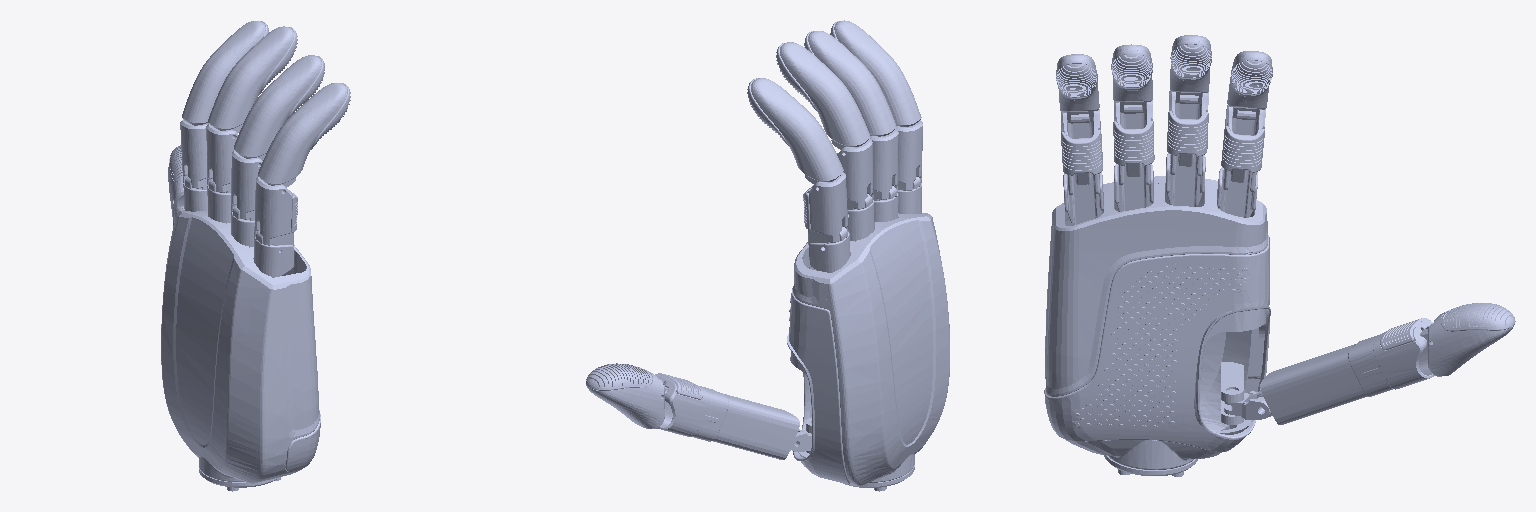
The robot description file, URDF, robot "hand":
<?xml version='1.0' encoding='UTF-8'?>
<robot name="hand">
  <material name="black">
    <color rgba="0.0 0.0 0.0 1.0" />
  </material>
  <material name="blue">
    <color rgba="0.0 0.0 0.8 1.0" />
  </material>
  <material name="green">
    <color rgba="0.0 0.8 0.0 1.0" />
  </material>
  <material name="grey">
    <color rgba="0.2 0.2 0.2 1.0" />
  </material>
  <material name="orange">
    <color rgba="1.0 0.423529411765 0.0392156862745 1.0" />
  </material>
  <material name="brown">
    <color rgba="0.870588235294 0.811764705882 0.764705882353 1.0" />
  </material>
  <material name="red">
    <color rgba="0.8 0.0 0.0 1.0" />
  </material>
  <material name="white">
    <color rgba="1.0 1.0 1.0 1.0" />
  </material>
  <material name="Beige">
    <color rgba="1.0 0.784 0.5765 1.0" />
  </material>
  <link name="rh_hand_base_link">
    <inertial>
      <origin xyz="0.0019900000 0.0009100000 0.0583810000" rpy="0 0 0" />
      <mass value="0.4185" />
      <inertia ixx="0.0004998" ixy="-1.2853e-05" ixz="-8.317e-06" iyy="0.0003567" iyz="-1.0354e-05" izz="0.0002301" />
    </inertial>
    <visual>
      <origin xyz="0 0 0" rpy="0 0 0" />
      <geometry>
        <mesh filename="meshes/visual/rh_hand_base_link_vis.obj" />
      </geometry>
      <material name="">
        <color rgba="0.796078431372549 0.823529411764706 0.937254901960784 1" />
      </material>
    </visual>
    <collision>
      <origin xyz="0 0 0" rpy="0 0 0" />
      <geometry>
        <mesh filename="meshes/visual/rh_hand_base_link_vis.obj" />
      </geometry>
    </collision>
  </link>
  <link name="rh_thumb_metacarpals_base1">
    <inertial>
      <origin xyz="0.0018663000 0.0066406000 0.0015330000" rpy="0 0 0" />
      <mass value="0.01" />
      <inertia ixx="3.3724e-07" ixy="-1.11e-07" ixz="-3.6039e-08" iyy="2.9457e-07" iyz="-5.7181e-08" izz="4.903e-07" />
    </inertial>
    <visual>
      <origin xyz="0 0 0" rpy="0 0 0" />
      <geometry>
        <mesh filename="meshes/visual/rh_thumb_metacarpals_base1_vis.obj" />
      </geometry>
      <material name="">
        <color rgba="0.796078431372549 0.823529411764706 0.937254901960784 1" />
      </material>
    </visual>
    <collision>
      <origin xyz="0 0 0" rpy="0 0 0" />
      <geometry>
        <mesh filename="meshes/visual/rh_thumb_metacarpals_base1_vis.obj" />
      </geometry>
    </collision>
  </link>
  <joint name="rh_thumb_cmc_roll" type="revolute">
    <origin xyz="0.0078133 0.030812 0.025678" rpy="-0.034907 0 0" />
    <parent link="rh_hand_base_link" />
    <child link="rh_thumb_metacarpals_base1" />
    <axis xyz="0 0.034899 -0.99939" />
    <limit lower="-0.087266" upper="1.256637" effort="0.588" velocity="5.95" />
    <dynamics damping="0.02" friction="0.05416667" />
  </joint>
  <link name="rh_thumb_metacarpals">
    <inertial>
      <origin xyz="0.0076927091 -0.0859662185 0.0235283087" rpy="0 0 0" />
      <mass value="0.065" />
      <inertia ixx="8.407e-06" ixy="1.1338e-09" ixz="1.1136e-08" iyy="8.3899e-06" iyz="-3.1171e-07" izz="2.0091e-06" />
    </inertial>
    <visual>
      <origin xyz="0 0 0" rpy="0 0 0" />
      <geometry>
        <mesh filename="meshes/visual/rh_thumb_metacarpals_vis.obj" />
      </geometry>
      <material name="">
        <color rgba="0.796078431372549 0.823529411764706 0.937254901960784 1" />
      </material>
    </visual>
    <collision>
      <origin xyz="0 0 0" rpy="0 0 0" />
      <geometry>
        <mesh filename="meshes/visual/rh_thumb_metacarpals_vis.obj" />
      </geometry>
    </collision>
  </link>
  <joint name="rh_thumb_cmc_pitch" type="revolute">
    <origin xyz="0.0054997 0.013314 0.0032166" rpy="-1.0762 0.013637 -0.40121" />
    <parent link="rh_thumb_metacarpals_base1" />
    <child link="rh_thumb_metacarpals" />
    <axis xyz="1 0 0" />
    <limit lower="0" upper="0.837758" effort="1.008" velocity="3.47" />
    <dynamics damping="0.02" friction="0.0375" />
  </joint>
  <link name="rh_thumb_distal">
    <inertial>
      <origin xyz="0.0076927091 -0.0798662185 -0.0591716913" rpy="0 0 0" />
      <mass value="0.018" />
      <inertia ixx="1.5546e-06" ixy="-2.4423e-09" ixz="2.8147e-09" iyy="1.7108e-06" iyz="7.2756e-08" izz="9.1709e-07" />
    </inertial>
    <visual>
      <origin xyz="0 0 0" rpy="0 0 0" />
      <geometry>
        <mesh filename="meshes/visual/rh_thumb_distal_vis.obj" />
      </geometry>
      <material name="">
        <color rgba="0.796078431372549 0.823529411764706 0.937254901960784 1" />
      </material>
    </visual>
    <collision>
      <origin xyz="0 0 0" rpy="0 0 0" />
      <geometry>
        <mesh filename="meshes/visual/rh_thumb_distal_vis.obj" />
      </geometry>
    </collision>
  </link>
  <link name="rh_thumb_tip">
    <visual>
      <origin xyz="0 0 0" rpy="0 0 0" />
      <geometry>
        <box size="0.0001 0.0001 0.0001" />
      </geometry>
      <material name="white" />
    </visual>
    <collision>
      <origin xyz="0 0 0" rpy="0 0 0" />
      <geometry>
        <box size="0.0001 0.0001 0.0001" />
      </geometry>
    </collision>
    <inertial>
      <origin xyz="0 0 0" rpy="0 0 0" />
      <mass value="1e-06" />
      <inertia ixx="1e-09" ixy="0" ixz="0" iyy="1e-09" iyz="0" izz="1e-09" />
    </inertial>
  </link>
  <joint name="rh_thumb_tip_fixed" type="fixed">
    <origin xyz="0 -0.0035 0.026" rpy="0 0 -1.5708" />
    <parent link="rh_thumb_distal" />
    <child link="rh_thumb_tip" />
  </joint>
  <joint name="rh_thumb_dip" type="revolute">
    <origin xyz="0 -0.0061 0.0827" rpy="0 0 0" />
    <parent link="rh_thumb_metacarpals" />
    <child link="rh_thumb_distal" />
    <axis xyz="1 0 0" />
    <limit lower="0" upper="0.963287" effort="0" velocity="1.7" />
    <mimic joint="rh_thumb_cmc_pitch" multiplier="1.226495" offset="0" />
  </joint>
  <link name="rh_index_proximal">
    <inertial>
      <origin xyz="0.0017760000 0.0001100000 0.0125560000" rpy="0 0 0" />
      <mass value="0.008553" />
      <inertia ixx="7.97543e-07" ixy="1.275e-09" ixz="1.38601e-07" iyy="8.00499e-07" iyz="-9.39e-10" izz="3.57001e-07" />
    </inertial>
    <visual>
      <origin xyz="0 0 0" rpy="0 0 0" />
      <geometry>
        <mesh filename="meshes/visual/rh_index_proximal_vis.obj" />
      </geometry>
      <material name="">
        <color rgba="0.796078431372549 0.823529411764706 0.937254901960784 1" />
      </material>
    </visual>
    <collision>
      <origin xyz="0 0 0" rpy="0 0 0" />
      <geometry>
        <mesh filename="meshes/visual/rh_index_proximal_vis.obj" />
      </geometry>
    </collision>
  </link>
  <joint name="rh_index_mcp_pitch" type="revolute">
    <origin xyz="-0.00066821 0.033467 0.11622" rpy="-0.087266 0 0" />
    <parent link="rh_hand_base_link" />
    <child link="rh_index_proximal" />
    <axis xyz="0 1 0" />
    <limit lower="0" upper="1.134464" effort="0.574" velocity="6.10" />
    <dynamics damping="0.01" friction="0.04" />
  </joint>
  <link name="rh_index_distal">
    <inertial>
      <origin xyz="0.0134000000 -0.0022620000 0.0169920000" rpy="0 0 0" />
      <mass value="0.018408" />
      <inertia ixx="2.488712e-06" ixy="-8.249e-09" ixz="-1.523059e-06" iyy="3.723754e-06" iyz="-1.4019e-08" izz="1.813582e-06" />
    </inertial>
    <visual>
      <origin xyz="0 0 0" rpy="0 0 0" />
      <geometry>
        <mesh filename="meshes/visual/rh_index_distal_vis.obj" />
      </geometry>
      <material name="">
        <color rgba="0.796078431372549 0.823529411764706 0.937254901960784 1" />
      </material>
    </visual>
    <collision>
      <origin xyz="0 0 0" rpy="0 0 0" />
      <geometry>
        <mesh filename="meshes/visual/rh_index_distal_vis.obj" />
      </geometry>
    </collision>
  </link>
  <link name="rh_index_tip">
    <visual>
      <origin xyz="0 0 0" rpy="0 0 0" />
      <geometry>
        <box size="0.0001 0.0001 0.0001" />
      </geometry>
      <material name="white" />
    </visual>
    <collision>
      <origin xyz="0 0 0" rpy="0 0 0" />
      <geometry>
        <box size="0.0001 0.0001 0.0001" />
      </geometry>
    </collision>
    <inertial>
      <origin xyz="0 0 0" rpy="0 0 0" />
      <mass value="1e-06" />
      <inertia ixx="1e-09" ixy="0" ixz="0" iyy="1e-09" iyz="0" izz="1e-09" />
    </inertial>
  </link>
  <joint name="rh_index_tip_fixed" type="fixed">
    <origin xyz="0.0341 0 0.034" rpy="0 0 0" />
    <parent link="rh_index_distal" />
    <child link="rh_index_tip" />
  </joint>
  <joint name="rh_index_dip" type="revolute">
    <origin xyz="0.0009359 0 0.028002" rpy="0 0 0" />
    <parent link="rh_index_proximal" />
    <child link="rh_index_distal" />
    <axis xyz="0 1 0" />
    <limit lower="0" upper="1.277039" effort="0" velocity="3.1" />
    <mimic joint="rh_index_mcp_pitch" multiplier="1.125676" offset="0" />
  </joint>
  <link name="rh_middle_proximal">
    <inertial>
      <origin xyz="0.0017760000 0.0001100000 0.0125560000" rpy="0 0 0" />
      <mass value="0.008553" />
      <inertia ixx="7.97543e-07" ixy="1.275e-09" ixz="1.38601e-07" iyy="8.00499e-07" iyz="-9.39e-10" izz="3.57001e-07" />
    </inertial>
    <visual>
      <origin xyz="0 0 0" rpy="0 0 0" />
      <geometry>
        <mesh filename="meshes/visual/rh_middle_proximal_vis.obj" />
      </geometry>
      <material name="">
        <color rgba="0.796078431372549 0.823529411764706 0.937254901960784 1" />
      </material>
    </visual>
    <collision>
      <origin xyz="0 0 0" rpy="0 0 0" />
      <geometry>
        <mesh filename="meshes/visual/rh_middle_proximal_vis.obj" />
      </geometry>
    </collision>
  </link>
  <joint name="rh_middle_mcp_pitch" type="revolute">
    <origin xyz="-0.00066821 0.0134013 0.12272" rpy="-0.034907 0 0" />
    <parent link="rh_hand_base_link" />
    <child link="rh_middle_proximal" />
    <axis xyz="0 1 0" />
    <limit lower="0" upper="1.134464" effort="0.574" velocity="6.10" />
    <dynamics damping="0.01" friction="0.02708333" />
  </joint>
  <link name="rh_middle_distal">
    <inertial>
      <origin xyz="0.0134000000 -0.0022620000 0.0169920000" rpy="0 0 0" />
      <mass value="0.018408" />
      <inertia ixx="2.488712e-06" ixy="-8.249e-09" ixz="-1.523059e-06" iyy="3.723754e-06" iyz="-1.4019e-08" izz="1.813582e-06" />
    </inertial>
    <visual>
      <origin xyz="0 0 0" rpy="0 0 0" />
      <geometry>
        <mesh filename="meshes/visual/rh_middle_distal_vis.obj" />
      </geometry>
      <material name="">
        <color rgba="0.796078431372549 0.823529411764706 0.937254901960784 1" />
      </material>
    </visual>
    <collision>
      <origin xyz="0 0 0" rpy="0 0 0" />
      <geometry>
        <mesh filename="meshes/visual/rh_middle_distal_vis.obj" />
      </geometry>
    </collision>
  </link>
  <link name="rh_middle_tip">
    <visual>
      <origin xyz="0 0 0" rpy="0 0 0" />
      <geometry>
        <box size="0.0001 0.0001 0.0001" />
      </geometry>
      <material name="white" />
    </visual>
    <collision>
      <origin xyz="0 0 0" rpy="0 0 0" />
      <geometry>
        <box size="0.0001 0.0001 0.0001" />
      </geometry>
    </collision>
    <inertial>
      <origin xyz="0 0 0" rpy="0 0 0" />
      <mass value="1e-06" />
      <inertia ixx="1e-09" ixy="0" ixz="0" iyy="1e-09" iyz="0" izz="1e-09" />
    </inertial>
  </link>
  <joint name="rh_middle_tip_fixed" type="fixed">
    <origin xyz="0.0341 0 0.034" rpy="0 0 0" />
    <parent link="rh_middle_distal" />
    <child link="rh_middle_tip" />
  </joint>
  <joint name="rh_middle_dip" type="revolute">
    <origin xyz="0.0009359 0 0.028002" rpy="0 0 0" />
    <parent link="rh_middle_proximal" />
    <child link="rh_middle_distal" />
    <axis xyz="0 1 0" />
    <limit lower="0" upper="1.277039" effort="0" velocity="3.1" />
    <mimic joint="rh_middle_mcp_pitch" multiplier="1.125676" offset="0" />
  </joint>
  <link name="rh_ring_proximal">
    <inertial>
      <origin xyz="0.0017760000 0.0001100000 0.0125560000" rpy="0 0 0" />
      <mass value="0.008553" />
      <inertia ixx="7.97543e-07" ixy="1.275e-09" ixz="1.38601e-07" iyy="8.00499e-07" iyz="-9.39e-10" izz="3.57001e-07" />
    </inertial>
    <visual>
      <origin xyz="0 0 0" rpy="0 0 0" />
      <geometry>
        <mesh filename="meshes/visual/rh_ring_proximal_vis.obj" />
      </geometry>
      <material name="">
        <color rgba="0.796078431372549 0.823529411764706 0.937254901960784 1" />
      </material>
    </visual>
    <collision>
      <origin xyz="0 0 0" rpy="0 0 0" />
      <geometry>
        <mesh filename="meshes/visual/rh_ring_proximal_vis.obj" />
      </geometry>
    </collision>
  </link>
  <joint name="rh_ring_mcp_pitch" type="revolute">
    <origin xyz="-0.00067368 -0.006217 0.11872" rpy="0.017453 0 0" />
    <parent link="rh_hand_base_link" />
    <child link="rh_ring_proximal" />
    <axis xyz="0 1 0" />
    <limit lower="0" upper="1.134464" effort="0.574" velocity="6.10" />
    <dynamics damping="0.01" friction="0.02291667" />
  </joint>
  <link name="rh_ring_distal">
    <inertial>
      <origin xyz="0.0134000000 -0.0022620000 0.0169920000" rpy="0 0 0" />
      <mass value="0.018408" />
      <inertia ixx="2.488712e-06" ixy="-8.249e-09" ixz="-1.523059e-06" iyy="3.723754e-06" iyz="-1.4019e-08" izz="1.813582e-06" />
    </inertial>
    <visual>
      <origin xyz="0 0 0" rpy="0 0 0" />
      <geometry>
        <mesh filename="meshes/visual/rh_ring_distal_vis.obj" />
      </geometry>
      <material name="">
        <color rgba="0.796078431372549 0.823529411764706 0.937254901960784 1" />
      </material>
    </visual>
    <collision>
      <origin xyz="0 0 0" rpy="0 0 0" />
      <geometry>
        <mesh filename="meshes/visual/rh_ring_distal_vis.obj" />
      </geometry>
    </collision>
  </link>
  <link name="rh_ring_tip">
    <visual>
      <origin xyz="0 0 0" rpy="0 0 0" />
      <geometry>
        <box size="0.0001 0.0001 0.0001" />
      </geometry>
      <material name="white" />
    </visual>
    <collision>
      <origin xyz="0 0 0" rpy="0 0 0" />
      <geometry>
        <box size="0.0001 0.0001 0.0001" />
      </geometry>
    </collision>
    <inertial>
      <origin xyz="0 0 0" rpy="0 0 0" />
      <mass value="1e-06" />
      <inertia ixx="1e-09" ixy="0" ixz="0" iyy="1e-09" iyz="0" izz="1e-09" />
    </inertial>
  </link>
  <joint name="rh_ring_tip_fixed" type="fixed">
    <origin xyz="0.0341 0 0.034" rpy="0 0 0" />
    <parent link="rh_ring_distal" />
    <child link="rh_ring_tip" />
  </joint>
  <joint name="rh_ring_dip" type="revolute">
    <origin xyz="0.0009359 0 0.028002" rpy="0 0 0" />
    <parent link="rh_ring_proximal" />
    <child link="rh_ring_distal" />
    <axis xyz="0 1 0" />
    <limit lower="0" upper="1.277039" effort="0" velocity="3.1" />
    <mimic joint="rh_ring_mcp_pitch" multiplier="1.125676" offset="0" />
  </joint>
  <link name="rh_pinky_proximal">
    <inertial>
      <origin xyz="0.0017760000 0.0001100000 0.0125560000" rpy="0 0 0" />
      <mass value="0.008553" />
      <inertia ixx="7.97543e-07" ixy="1.275e-09" ixz="1.38601e-07" iyy="8.00499e-07" iyz="-9.39e-10" izz="3.57001e-07" />
    </inertial>
    <visual>
      <origin xyz="0 0 0" rpy="0 0 0" />
      <geometry>
        <mesh filename="meshes/visual/rh_pinky_proximal_vis.obj" />
      </geometry>
      <material name="">
        <color rgba="0.796078431372549 0.823529411764706 0.937254901960784 1" />
      </material>
    </visual>
    <collision>
      <origin xyz="0 0 0" rpy="0 0 0" />
      <geometry>
        <mesh filename="meshes/visual/rh_pinky_proximal_vis.obj" />
      </geometry>
    </collision>
  </link>
  <joint name="rh_pinky_mcp_pitch" type="revolute">
    <origin xyz="-0.00067852 -0.025314 0.11474" rpy="0.05236 0 0" />
    <parent link="rh_hand_base_link" />
    <child link="rh_pinky_proximal" />
    <axis xyz="0 1 0" />
    <limit lower="0" upper="1.134464" effort="0.574" velocity="6.10" />
    <dynamics damping="0.01" friction="0.01" />
  </joint>
  <link name="rh_pinky_distal">
    <inertial>
      <origin xyz="0.0134000000 -0.0022620000 0.0169920000" rpy="0 0 0" />
      <mass value="0.018408" />
      <inertia ixx="2.488712e-06" ixy="-8.249e-09" ixz="-1.523059e-06" iyy="3.723754e-06" iyz="-1.4019e-08" izz="1.813582e-06" />
    </inertial>
    <visual>
      <origin xyz="0 0 0" rpy="0 0 0" />
      <geometry>
        <mesh filename="meshes/visual/rh_pinky_distal_vis.obj" />
      </geometry>
      <material name="">
        <color rgba="0.796078431372549 0.823529411764706 0.937254901960784 1" />
      </material>
    </visual>
    <collision>
      <origin xyz="0 0 0" rpy="0 0 0" />
      <geometry>
        <mesh filename="meshes/visual/rh_pinky_distal_vis.obj" />
      </geometry>
    </collision>
  </link>
  <link name="rh_pinky_tip">
    <visual>
      <origin xyz="0 0 0" rpy="0 0 0" />
      <geometry>
        <box size="0.0001 0.0001 0.0001" />
      </geometry>
      <material name="white" />
    </visual>
    <collision>
      <origin xyz="0 0 0" rpy="0 0 0" />
      <geometry>
        <box size="0.0001 0.0001 0.0001" />
      </geometry>
    </collision>
    <inertial>
      <origin xyz="0 0 0" rpy="0 0 0" />
      <mass value="1e-06" />
      <inertia ixx="1e-09" ixy="0" ixz="0" iyy="1e-09" iyz="0" izz="1e-09" />
    </inertial>
  </link>
  <joint name="rh_pinky_tip_fixed" type="fixed">
    <origin xyz="0.0341 0 0.034" rpy="0 0 0" />
    <parent link="rh_pinky_distal" />
    <child link="rh_pinky_tip" />
  </joint>
  <joint name="rh_pinky_dip" type="revolute">
    <origin xyz="0.0009359 0 0.028002" rpy="0 0 0" />
    <parent link="rh_pinky_proximal" />
    <child link="rh_pinky_distal" />
    <axis xyz="0 1 0" />
    <limit lower="0" upper="1.277039" effort="0" velocity="3.1" />
    <mimic joint="rh_pinky_mcp_pitch" multiplier="1.125676" offset="0" />
  </joint>
  <transmission name="trans_thumb_cmc_roll">
    <type>transmission_interface/SimpleTransmission</type>
    <joint name="rh_thumb_cmc_roll">
      <hardwareInterface>hardware_interface/EffortJointInterface</hardwareInterface>
    </joint>
    <actuator name="motor_thumb_cmc_roll">
      <hardwareInterface>hardware_interface/EffortJointInterface</hardwareInterface>
      <mechanicalReduction>0.0084</mechanicalReduction>
    </actuator>
  </transmission>
  <transmission name="trans_index_mcp_pitch">
    <type>transmission_interface/SimpleTransmission</type>
    <joint name="rh_index_mcp_pitch">
      <hardwareInterface>hardware_interface/EffortJointInterface</hardwareInterface>
    </joint>
    <actuator name="motor_index_mcp_pitch">
      <hardwareInterface>hardware_interface/EffortJointInterface</hardwareInterface>
      <mechanicalReduction>0.0082</mechanicalReduction>
    </actuator>
  </transmission>
  <transmission name="trans_middle_mcp_pitch">
    <type>transmission_interface/SimpleTransmission</type>
    <joint name="rh_middle_mcp_pitch">
      <hardwareInterface>hardware_interface/EffortJointInterface</hardwareInterface>
    </joint>
    <actuator name="motor_middle_mcp_pitch">
      <hardwareInterface>hardware_interface/EffortJointInterface</hardwareInterface>
      <mechanicalReduction>0.0082</mechanicalReduction>
    </actuator>
  </transmission>
  <transmission name="trans_ring_mcp_pitch">
    <type>transmission_interface/SimpleTransmission</type>
    <joint name="rh_ring_mcp_pitch">
      <hardwareInterface>hardware_interface/EffortJointInterface</hardwareInterface>
    </joint>
    <actuator name="motor_ring_mcp_pitch">
      <hardwareInterface>hardware_interface/EffortJointInterface</hardwareInterface>
      <mechanicalReduction>0.0082</mechanicalReduction>
    </actuator>
  </transmission>
  <transmission name="trans_pinky_mcp_pitch">
    <type>transmission_interface/SimpleTransmission</type>
    <joint name="rh_pinky_mcp_pitch">
      <hardwareInterface>hardware_interface/EffortJointInterface</hardwareInterface>
    </joint>
    <actuator name="motor_pinky_mcp_pitch">
      <hardwareInterface>hardware_interface/EffortJointInterface</hardwareInterface>
      <mechanicalReduction>0.0082</mechanicalReduction>
    </actuator>
  </transmission>
  <transmission name="trans_thumb_cmc_pitch">
    <type>transmission_interface/SimpleTransmission</type>
    <joint name="rh_thumb_cmc_pitch">
      <hardwareInterface>hardware_interface/EffortJointInterface</hardwareInterface>
    </joint>
    <actuator name="motor_thumb_cmc_pitch">
      <hardwareInterface>hardware_interface/EffortJointInterface</hardwareInterface>
      <mechanicalReduction>0.0144</mechanicalReduction>
    </actuator>
  </transmission>
  <mujoco>
    <compiler balanceinertia="true" discardvisual="false" />
    <default>
      <joint armature="3.4707e-08" damping="5.0" frictionloss="0.5" />
    </default>
    <equality>
      <joint name="rh_couple_index" joint1="rh_index_dip" joint2="rh_index_mcp_pitch" polycoef="0 1.125676 0 0 0 0" />
      <joint name="rh_couple_middle" joint1="rh_middle_dip" joint2="rh_middle_mcp_pitch" polycoef="0 1.125676 0 0 0 0" />
      <joint name="rh_couple_ring" joint1="rh_ring_dip" joint2="rh_ring_mcp_pitch" polycoef="0 1.125676 0 0 0 0" />
      <joint name="rh_couple_pinky" joint1="rh_pinky_dip" joint2="rh_pinky_mcp_pitch" polycoef="0 1.125676 0 0 0 0" />
      <joint name="rh_couple_thumb" joint1="rh_thumb_dip" joint2="rh_thumb_cmc_pitch" polycoef="0 1.226495 0 0 0 0" />
    </equality>
  </mujoco>
</robot>

--- Render facts (derived) ---
3 views of the same robot in one strip: view 1: azimuth 30°, elevation 25°; view 2: azimuth 150°, elevation 25°; view 3: azimuth 270°, elevation 25° (orthographic).
Robot: hand — 17 links, 16 joints (11 revolute, 5 fixed); root link rh_hand_base_link; default pose: every joint at zero.
Links seen in each view (by area): view 1: rh_hand_base_link, rh_pinky_distal, rh_middle_distal, rh_ring_distal, rh_index_distal, rh_pinky_proximal, rh_middle_proximal, rh_index_proximal, rh_ring_proximal, rh_thumb_distal; view 2: rh_hand_base_link, rh_thumb_metacarpals, rh_index_distal, rh_middle_distal, rh_thumb_distal, rh_ring_distal, rh_pinky_distal, rh_index_proximal, rh_middle_proximal, rh_ring_proximal, rh_pinky_proximal; view 3: rh_hand_base_link, rh_thumb_metacarpals, rh_thumb_distal, rh_index_distal, rh_pinky_distal, rh_ring_distal, rh_middle_distal, rh_index_proximal, rh_middle_proximal, rh_pinky_proximal, rh_ring_proximal, rh_thumb_metacarpals_base1.
Boxes of the visible links, x1,y1,x2,y2 form: rh_hand_base_link: (161, 177, 320, 491); rh_pinky_distal: (258, 83, 350, 187); rh_middle_distal: (208, 26, 297, 136); rh_ring_distal: (234, 55, 324, 163); rh_index_distal: (182, 21, 268, 125); rh_pinky_proximal: (254, 176, 297, 250); rh_middle_proximal: (206, 124, 237, 192); rh_index_proximal: (180, 119, 207, 189); rh_ring_proximal: (231, 150, 262, 220); rh_thumb_distal: (168, 145, 183, 226); rh_hand_base_link: (787, 177, 949, 491); rh_thumb_metacarpals: (655, 373, 799, 459); rh_index_distal: (747, 78, 843, 184); rh_middle_distal: (776, 42, 870, 149); rh_thumb_distal: (586, 363, 664, 428); rh_ring_distal: (804, 31, 896, 136); rh_pinky_distal: (830, 20, 921, 127); rh_index_proximal: (803, 172, 848, 249); rh_middle_proximal: (837, 139, 873, 215); rh_ring_proximal: (870, 129, 898, 200); rh_pinky_proximal: (896, 120, 922, 190); rh_hand_base_link: (1044, 153, 1270, 476); rh_thumb_metacarpals: (1259, 318, 1433, 424); rh_thumb_distal: (1428, 303, 1515, 376); rh_index_distal: (1227, 51, 1272, 120); rh_pinky_distal: (1056, 54, 1099, 123); rh_ring_distal: (1111, 44, 1152, 113); rh_middle_distal: (1170, 35, 1211, 104); rh_index_proximal: (1221, 105, 1265, 191); rh_middle_proximal: (1167, 91, 1208, 175); rh_pinky_proximal: (1061, 109, 1102, 195); rh_ring_proximal: (1113, 100, 1154, 185); rh_thumb_metacarpals_base1: (1224, 389, 1271, 419).
Bounding box of the posed robot: 0.0799 × 0.1787 × 0.1929 m (x, y, z).
Meshes: 12 distinct files referenced, 12 mesh visuals loaded (12 OBJ).
